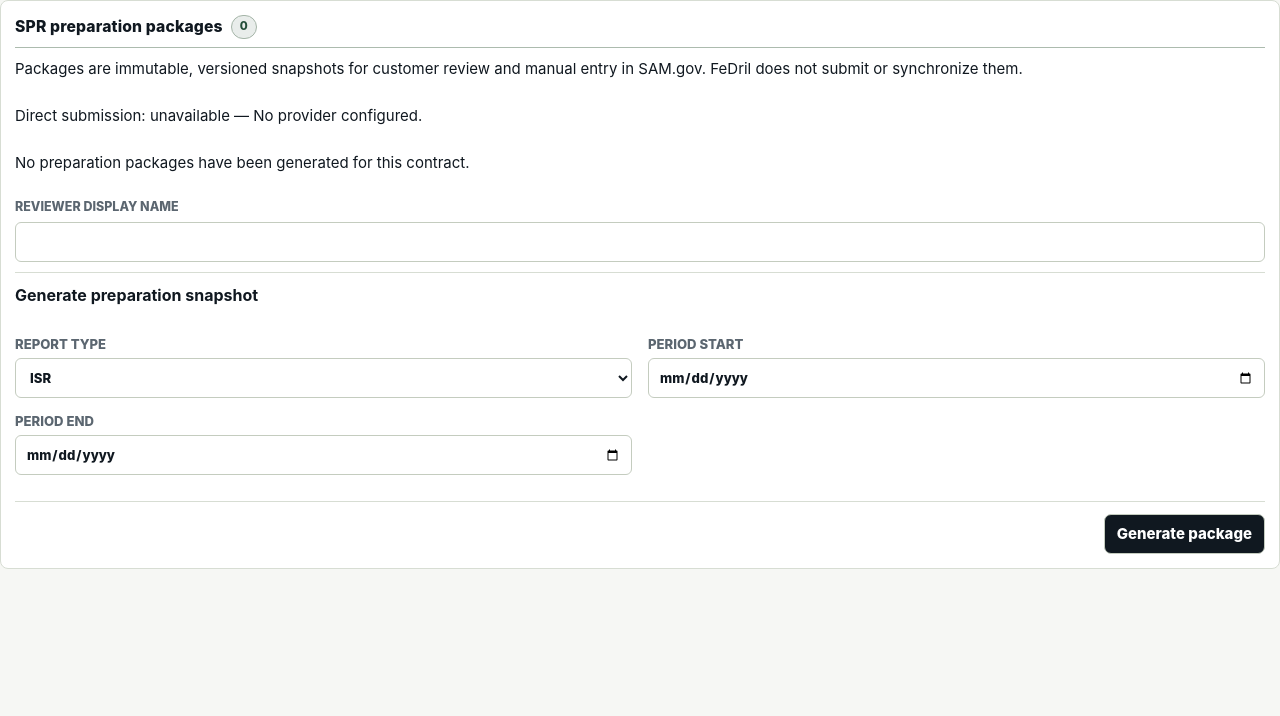
Test: SprReportPackagesPanel › generates an immutable preparation snapshot and displays the no-submission posture
Expected: the text "Direct submission: unavailable — No provider configured." is shown, [15,106,422,125]
Type "2026-01-01" into the date field labelled "Period start" at (956, 378), box [648,358,1265,398]
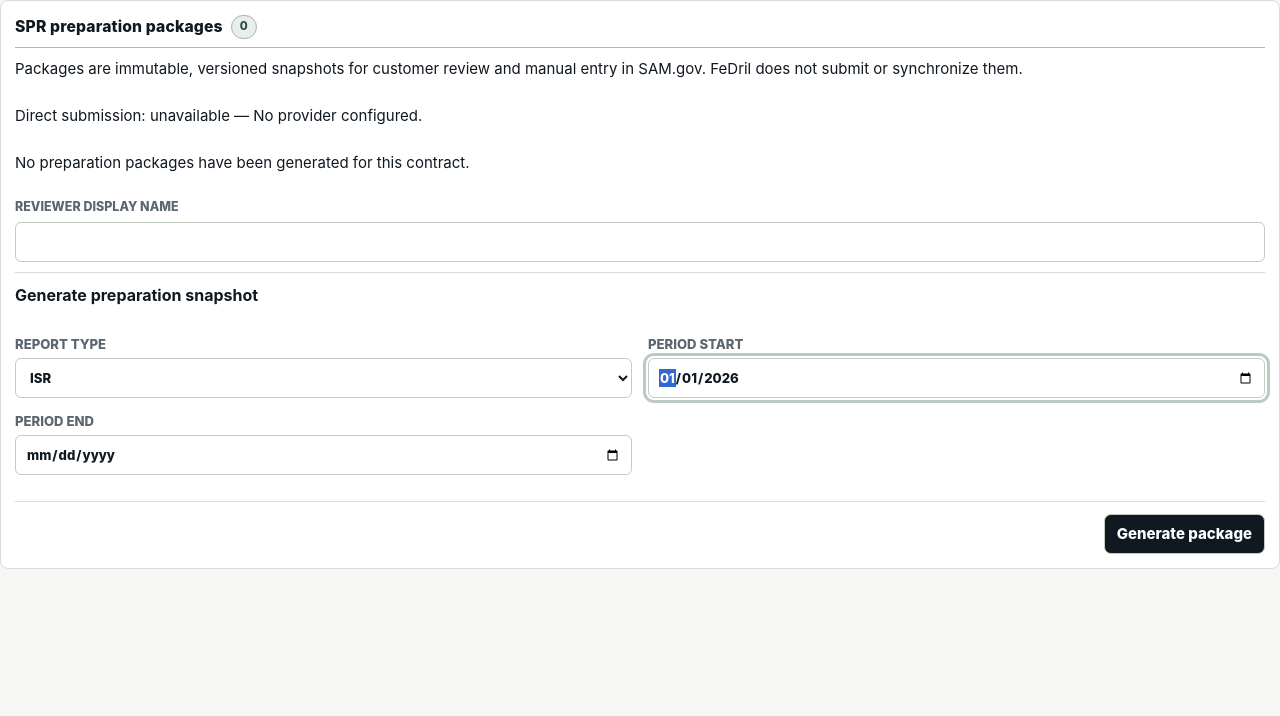
Type "2026-03-31" into the date field labelled "Period end" at (324, 455), box [15,435,632,475]
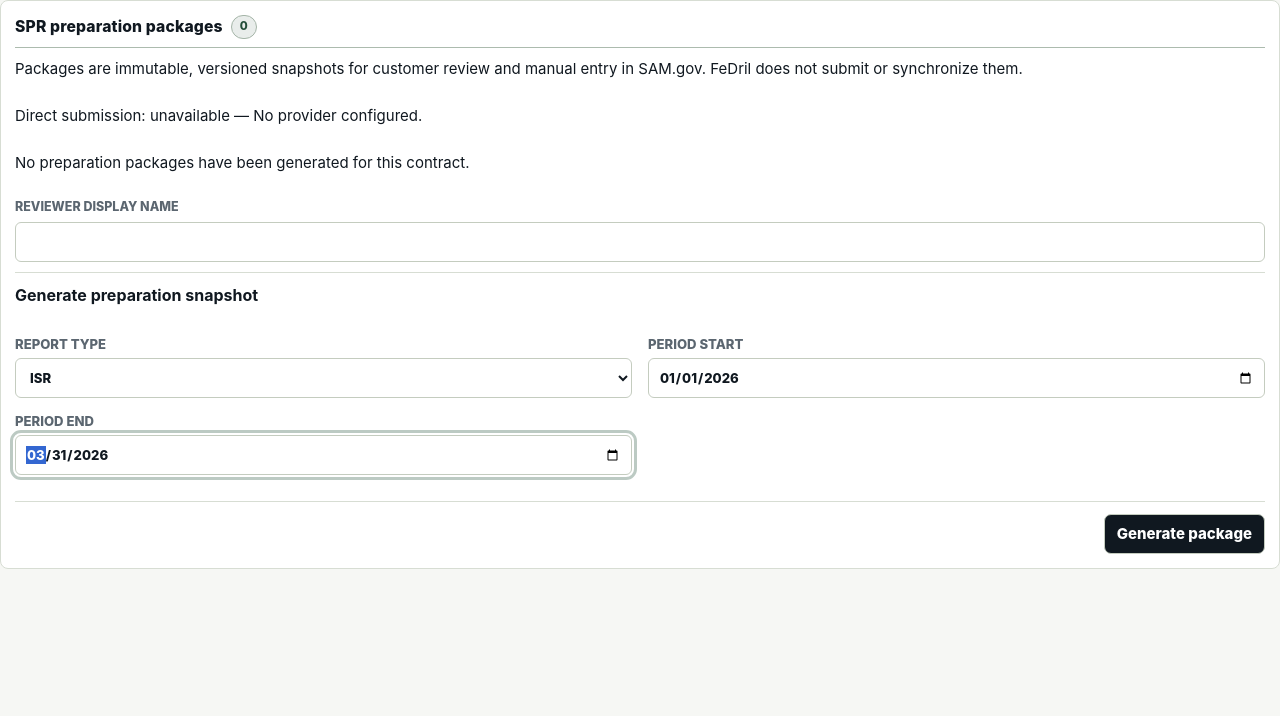
Click the button "Generate package" at (1184, 534), box [1104,514,1265,554]
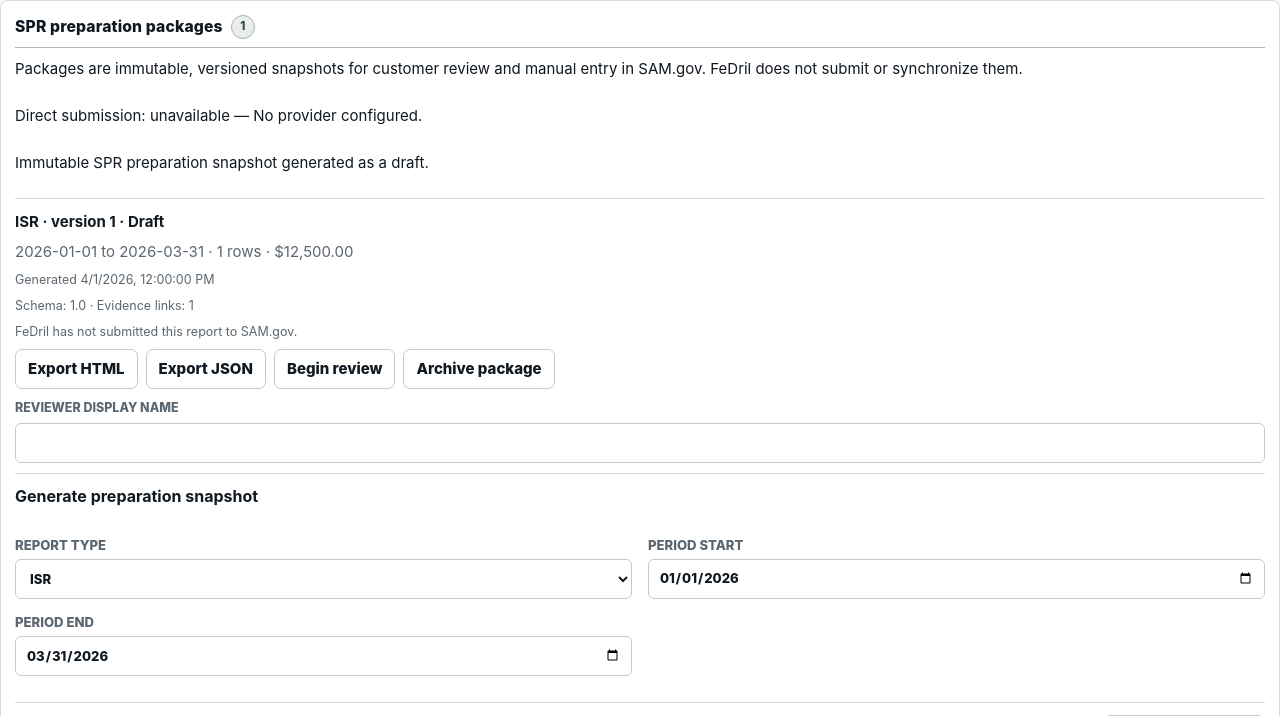
Result: the text "Immutable SPR preparation snapshot generated as a draft." is shown at [15,152,429,172]
Result: the text "FeDril has not submitted this report to SAM.gov." is shown at [15,324,297,339]
Result: the button "Begin review" is shown at [274,349,395,389]
